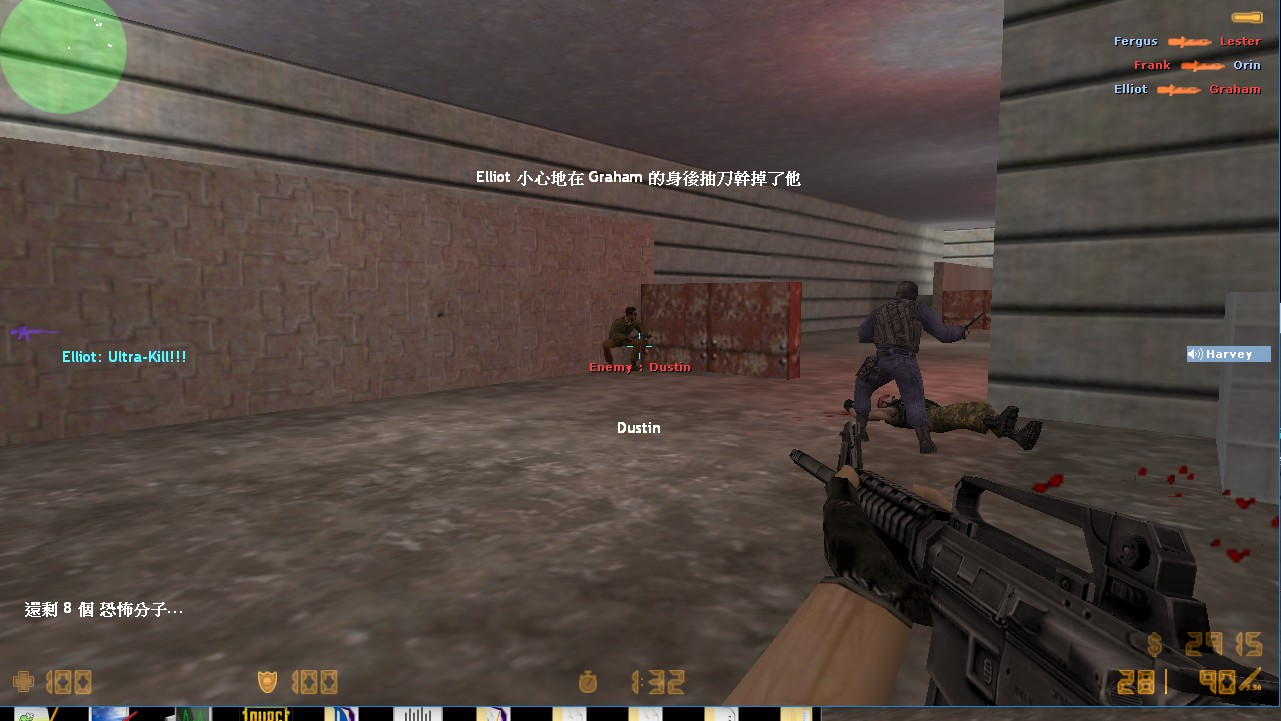person: (851, 268, 938, 459), (600, 305, 651, 368)
